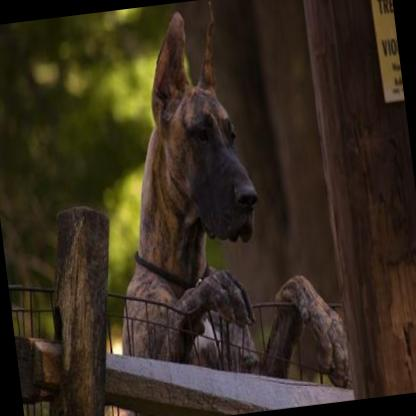Great_Dane: (72, 0, 359, 416)
